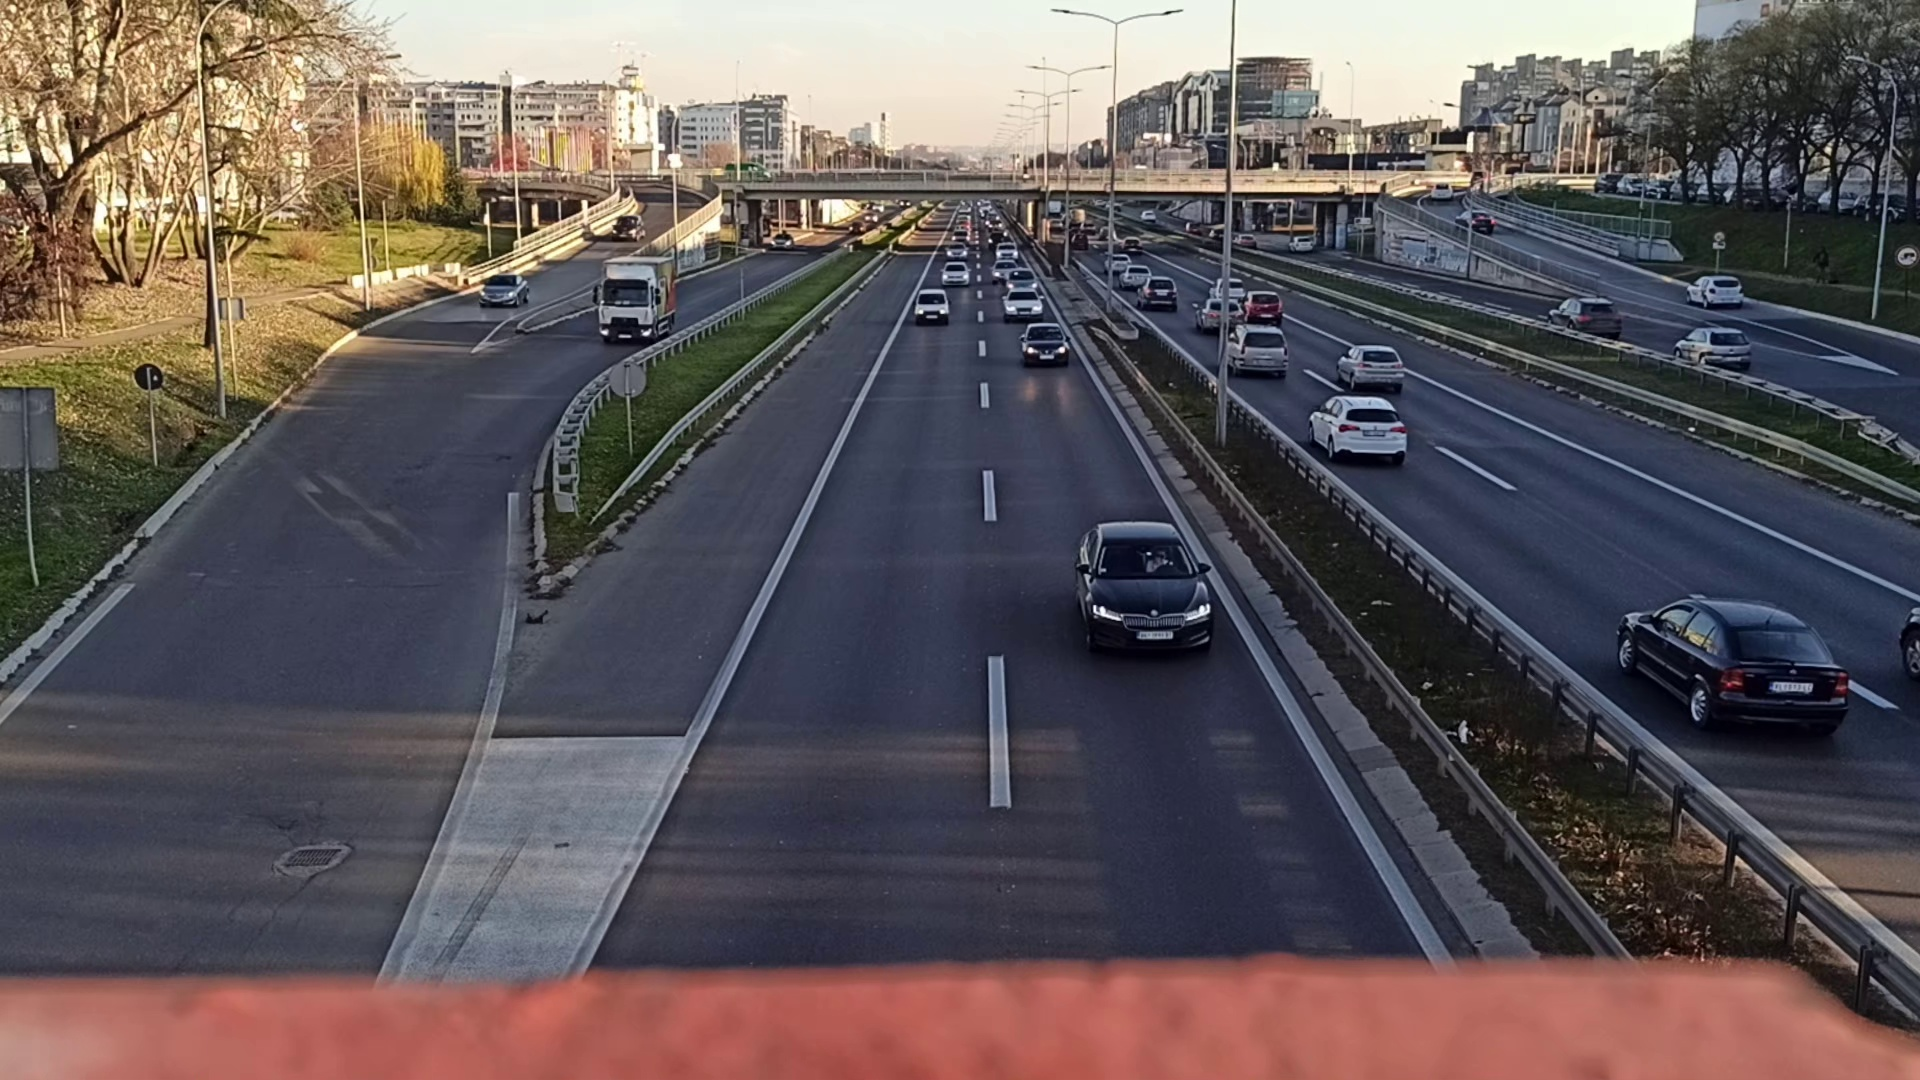car: (1619, 595, 1847, 746), (1076, 524, 1212, 661), (1307, 394, 1404, 468), (1675, 324, 1750, 373), (1547, 298, 1625, 340), (1224, 328, 1288, 378), (1335, 343, 1404, 389), (1022, 323, 1069, 367), (481, 272, 527, 309), (1195, 299, 1245, 328), (915, 287, 951, 326), (1247, 289, 1283, 324), (1139, 276, 1178, 307), (1002, 291, 1040, 319), (612, 214, 645, 241), (944, 261, 971, 284)
truck: (597, 257, 673, 343)
